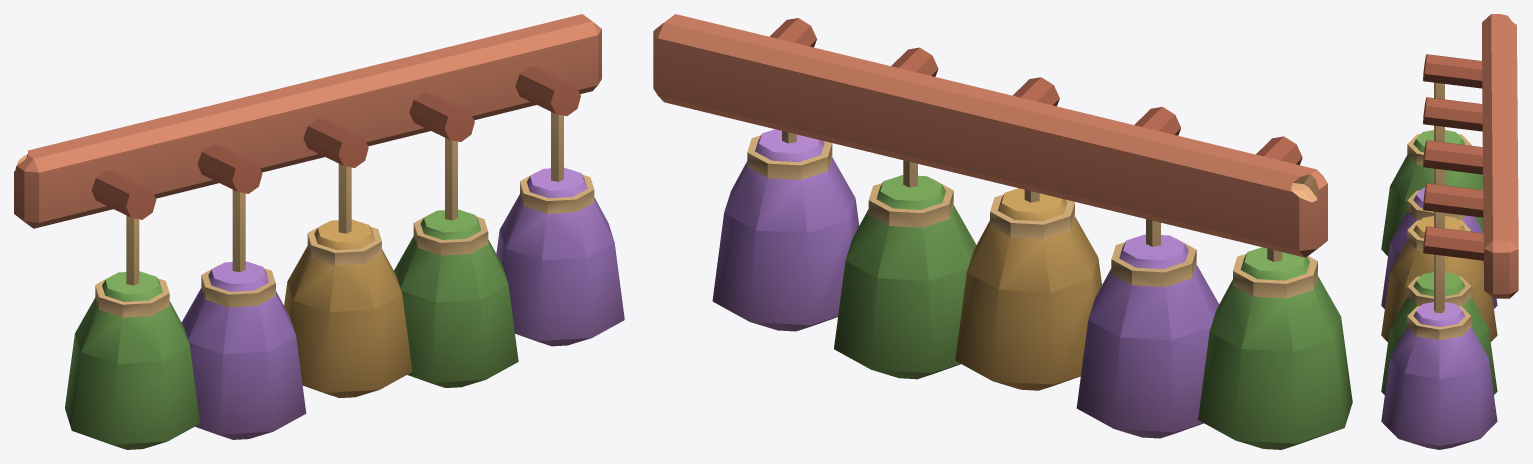
Rendered from herb_rack.glb.
The picture shows the model from 3 angles, left to right: view 1: azimuth 30°, elevation 25°; view 2: azimuth 150°, elevation 25°; view 3: azimuth 270°, elevation 25°; orthographic projection. The views are drawn at different scales.
Parts seen in each view (by area): view 1: Item; view 2: Item; view 3: Item.
Part boxes in pixels (x1,y1,x2,y2): Item: (14, 14, 624, 449); Item: (653, 14, 1352, 449); Item: (1381, 14, 1518, 449).
Size of the model in its own units: 1.91 by 0.9203 by 0.4729.
Materials: 1 (1 with a texture image).
